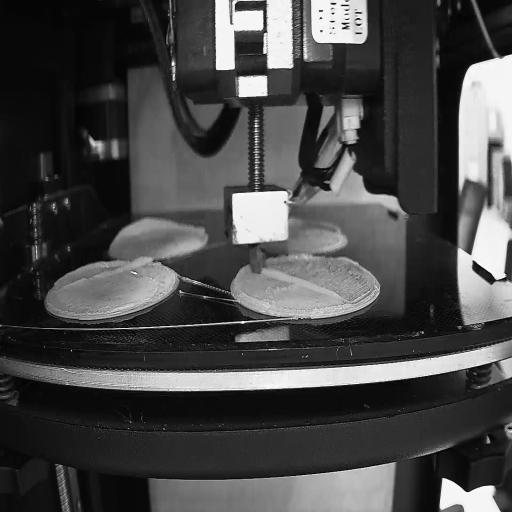over_extrusion: (60, 252, 154, 290), (111, 211, 207, 246), (263, 266, 344, 304), (288, 218, 346, 232), (348, 252, 378, 270)
